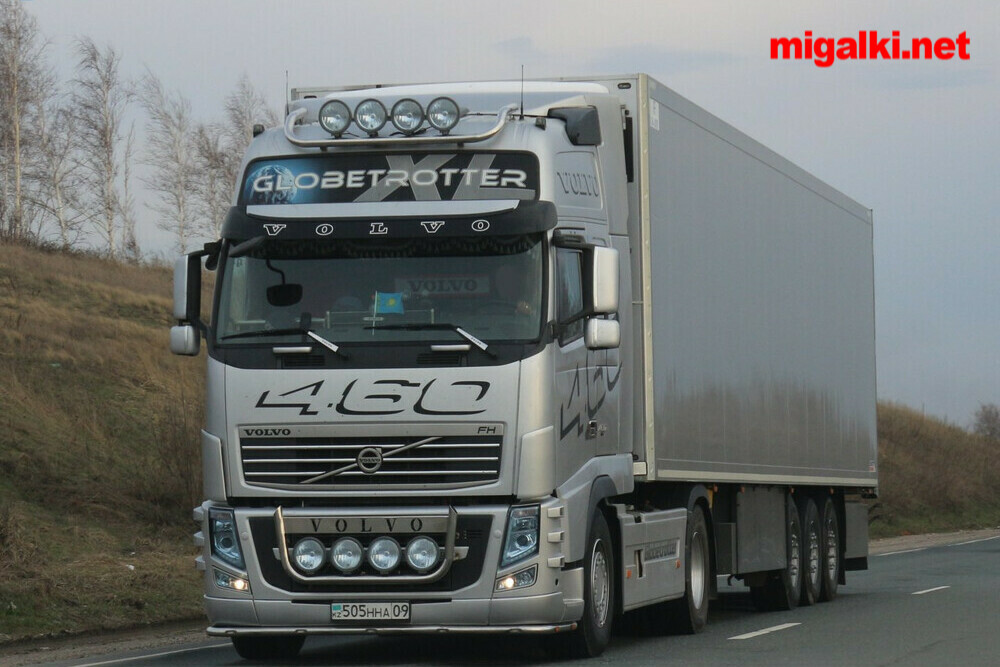license_plate: (330, 600, 415, 622)
